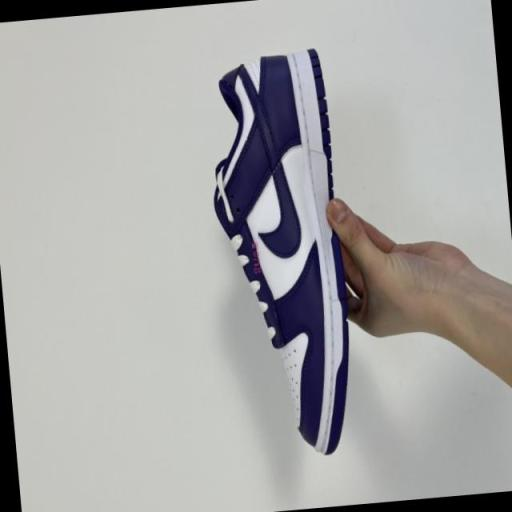Nike: (238, 65, 308, 264)
